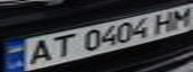0: (78, 27, 103, 53), (115, 20, 136, 45)
4: (130, 16, 154, 40), (100, 24, 121, 48)
A: (18, 37, 57, 66)
H: (148, 10, 181, 35)
M: (163, 5, 193, 30)
T: (42, 32, 78, 61)
